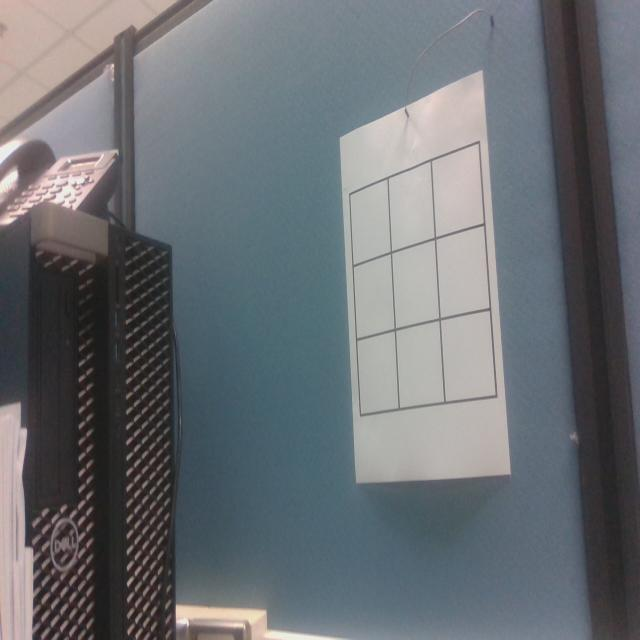null: (441, 310, 497, 406), (432, 143, 485, 239), (437, 226, 490, 319), (398, 320, 445, 412), (393, 239, 439, 330), (391, 162, 435, 249), (357, 331, 398, 418), (354, 252, 394, 341), (350, 178, 390, 266)
table: (338, 133, 498, 418)
